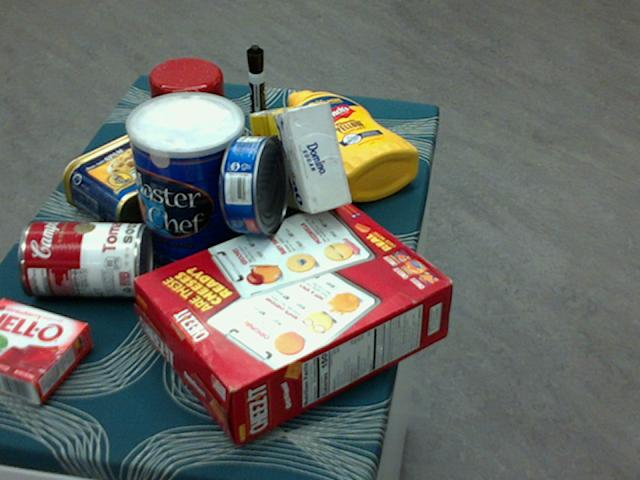cracker_box: (133, 195, 453, 444)
gelatin_box: (0, 296, 93, 404)
large_marker: (246, 44, 267, 149)
master_chef_can: (126, 93, 248, 279)
mug: (148, 58, 232, 158)
mustard_bottle: (286, 89, 418, 201)
potted_meat_can: (62, 133, 194, 235)
sugar_box: (246, 103, 351, 214)
tomato_soup_can: (17, 217, 151, 297)
tuna_fish_can: (219, 134, 288, 233)
